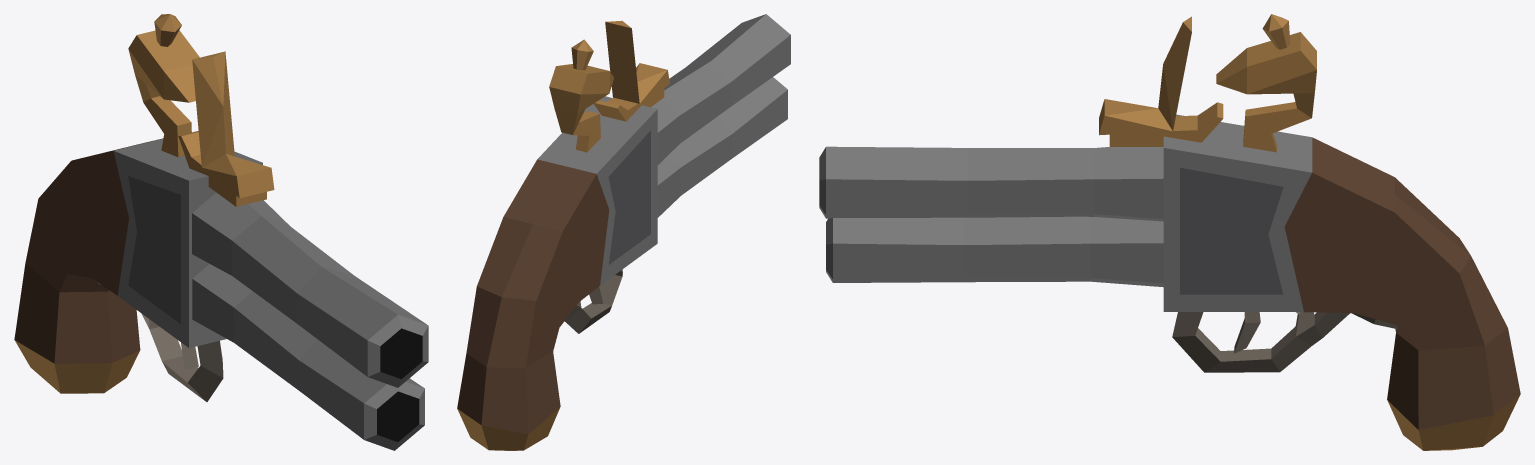
Rendered from SM_Wep_Pistol_DoubleBarrel_01.glb.
3 renders of one model, left to right at view 1: azimuth 30°, elevation 25°; view 2: azimuth 150°, elevation 25°; view 3: azimuth 270°, elevation 25°, orthographic. The views are drawn at different scales.
Parts seen in each view (by area): view 1: SM_Wep_Pistol_DoubleBarrel_01; view 2: SM_Wep_Pistol_DoubleBarrel_01; view 3: SM_Wep_Pistol_DoubleBarrel_01.
Boxes of the visible parts, box(x1,y1,x2,y2) form: SM_Wep_Pistol_DoubleBarrel_01: box(14, 14, 428, 450); SM_Wep_Pistol_DoubleBarrel_01: box(457, 14, 790, 450); SM_Wep_Pistol_DoubleBarrel_01: box(819, 14, 1520, 450).
Size of the model in its own units: 0.000498 by 0.0024 by 0.0035.
